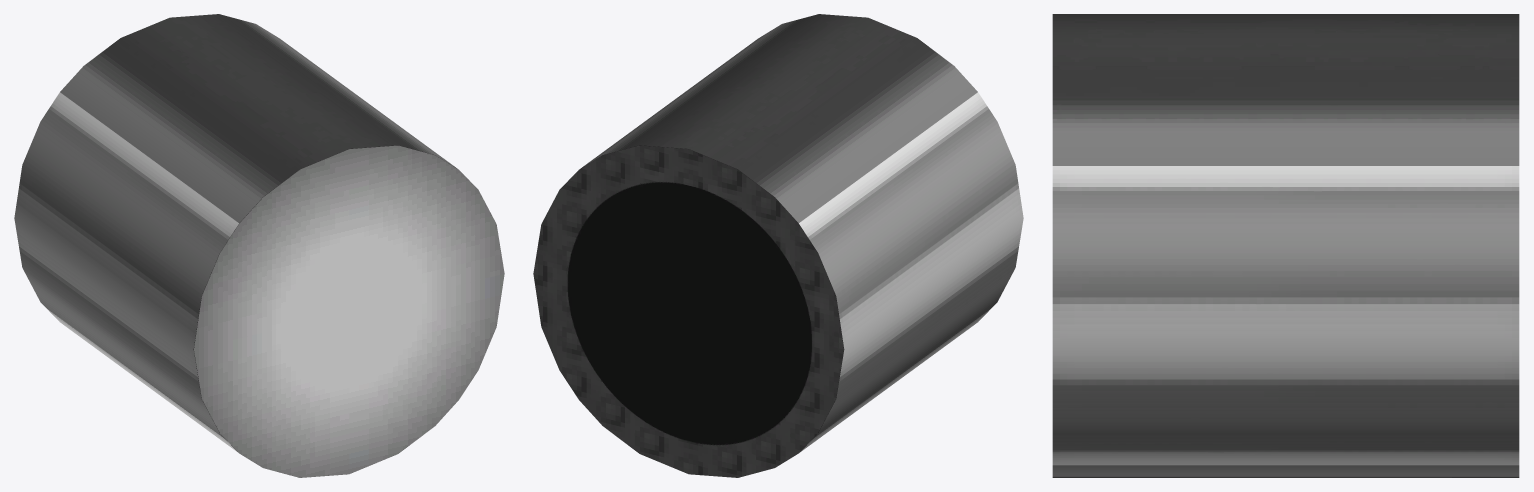
File: solarscoop.obj
3 renders of one model, left to right at view 1: azimuth 30°, elevation 25°; view 2: azimuth 150°, elevation 25°; view 3: azimuth 270°, elevation 25°, orthographic. The views are drawn at different scales.
Visible parts, largest first — view 1: Solarscoop7, Solarscoop4, Solarscoop3; view 2: Solarscoop2, Solarscoop4, Solarscoop3; view 3: Solarscoop5, Solarscoop3, Solarscoop6.
Part boxes in pixels (box(x1,y1,x2,y2)): Solarscoop7: box(194, 145, 504, 477); Solarscoop4: box(14, 92, 238, 452); Solarscoop3: box(60, 14, 456, 222); Solarscoop2: box(533, 145, 843, 477); Solarscoop4: box(799, 92, 1023, 452); Solarscoop3: box(581, 14, 977, 222); Solarscoop5: box(1052, 166, 1519, 465); Solarscoop3: box(1052, 14, 1519, 165); Solarscoop6: box(1052, 465, 1519, 477).
Bounding box in the file's own units: 50.04 × 50.04 × 50.04.
5 materials, 4 textured.
